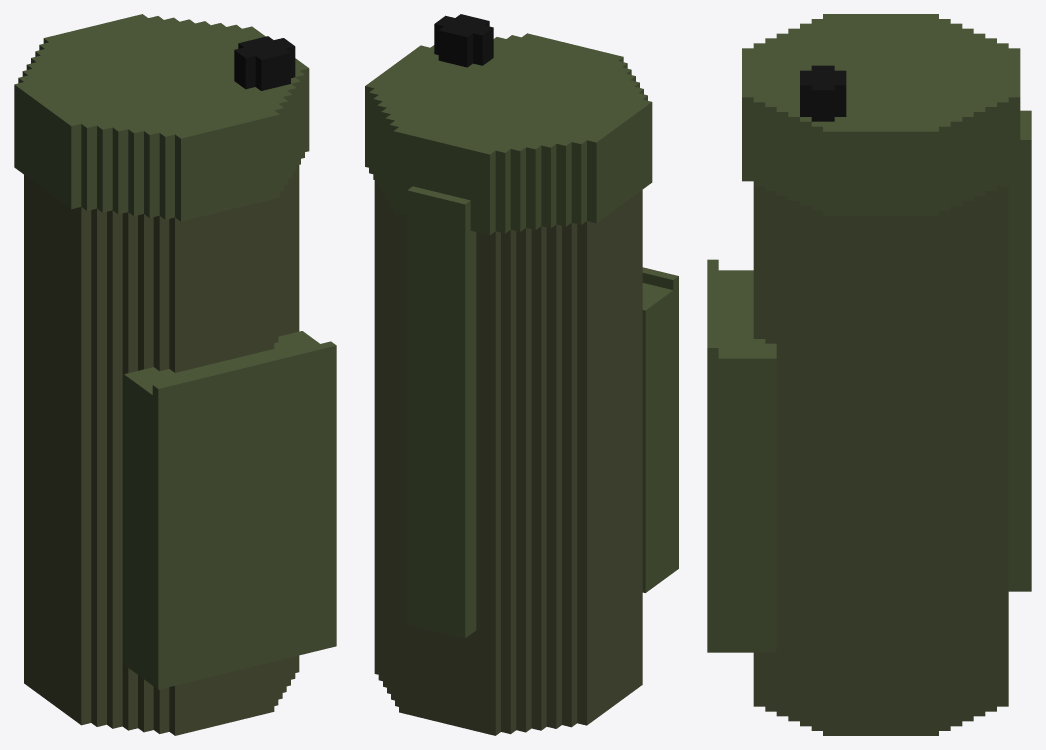
File: h2o_pouch.glb
3 renders of one model, left to right at view 1: azimuth 30°, elevation 25°; view 2: azimuth 150°, elevation 25°; view 3: azimuth 270°, elevation 25°, orthographic. The views are drawn at different scales.
Visible parts, largest first — view 1: h2o_pouch:compound; view 2: h2o_pouch:compound; view 3: h2o_pouch:compound.
Boxes of the visible parts, x1,y1,x2,y2 form: h2o_pouch:compound: [14, 14, 336, 735]; h2o_pouch:compound: [365, 14, 678, 735]; h2o_pouch:compound: [707, 14, 1031, 735].
Size of the model in its own units: 0.096 by 0.244 by 0.112.
